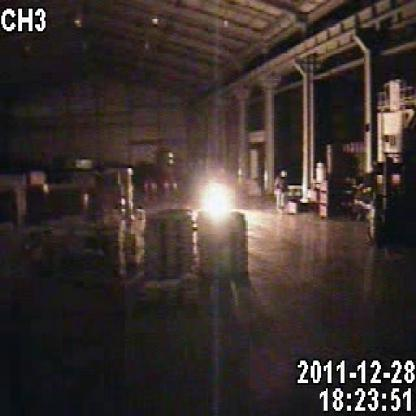fire: (175, 147, 259, 248)
